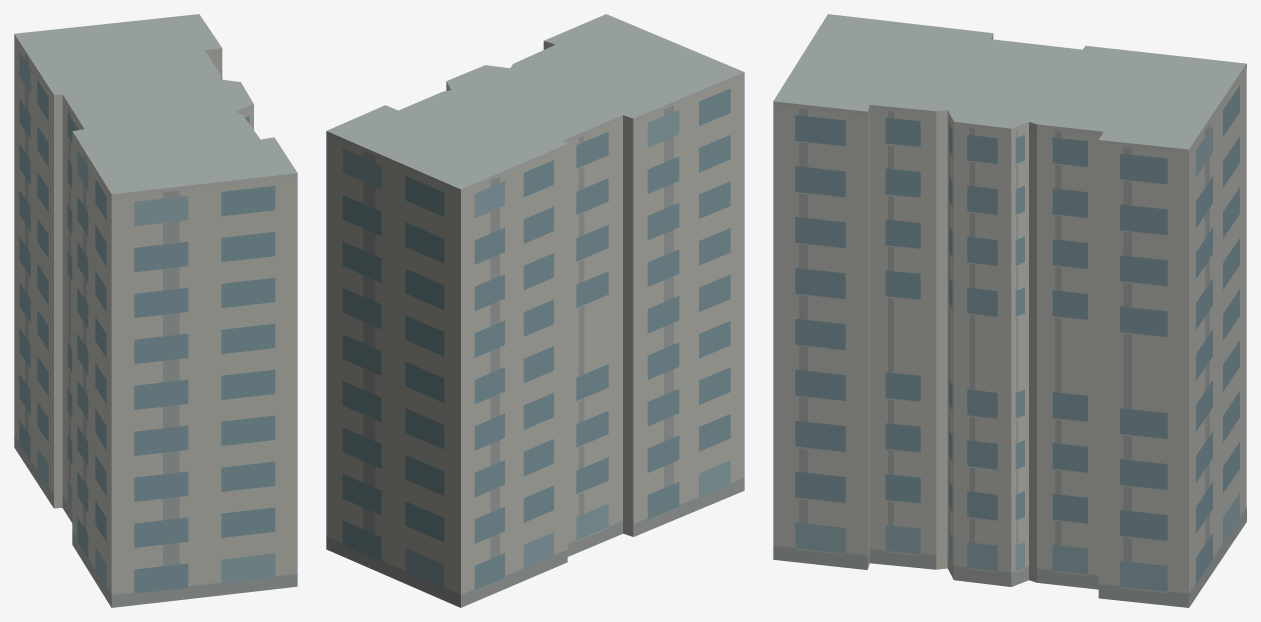
The model's file is survey-upis-32948638.glb.
3 views of the same model, side by side, from view 1: azimuth 30°, elevation 25°; view 2: azimuth 150°, elevation 25°; view 3: azimuth 270°, elevation 25° (orthographic). The views are drawn at different scales.
Visible parts, largest first — view 1: survey-upis-32948638.tmp; view 2: survey-upis-32948638.tmp; view 3: survey-upis-32948638.tmp.
Boxes of the visible parts, <box> form: survey-upis-32948638.tmp: <box>14,14,297,607</box>; survey-upis-32948638.tmp: <box>326,14,744,607</box>; survey-upis-32948638.tmp: <box>773,14,1246,607</box>.
Bounding box in the file's own units: 16.4 × 25.85 × 24.21.
